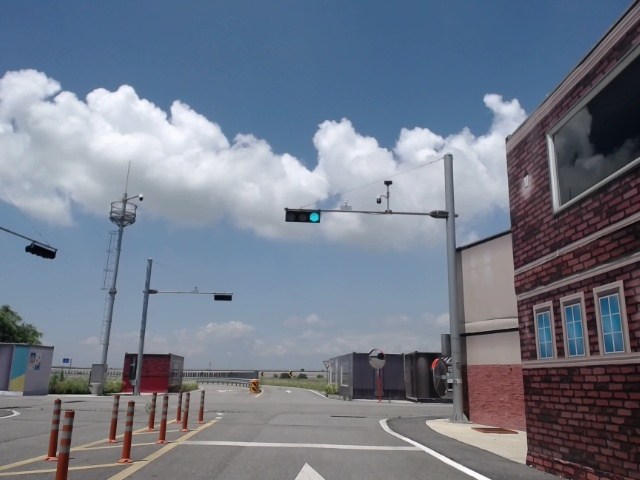green_3: (286, 210, 319, 222)
